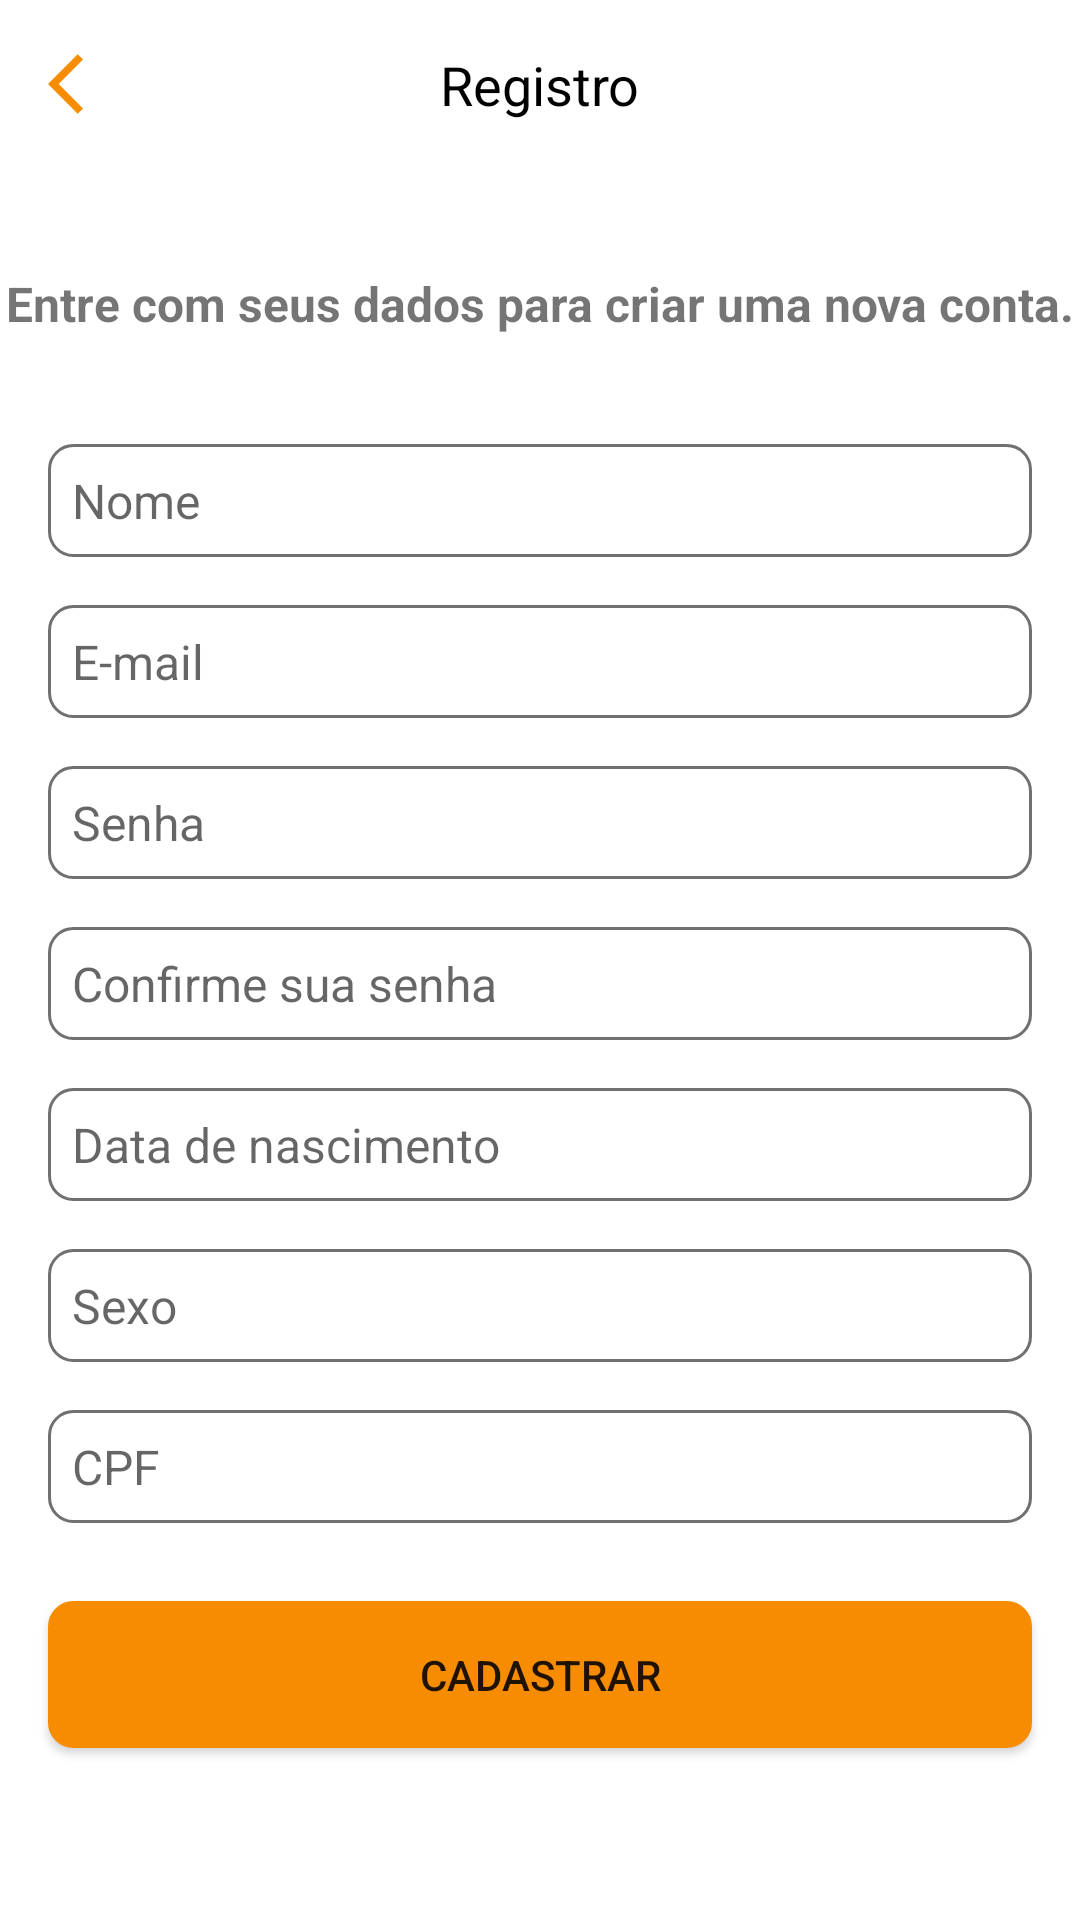

Named icons in this screenshot (1080×1920) and their centers, (x,y):
arrow back: (65,84)
